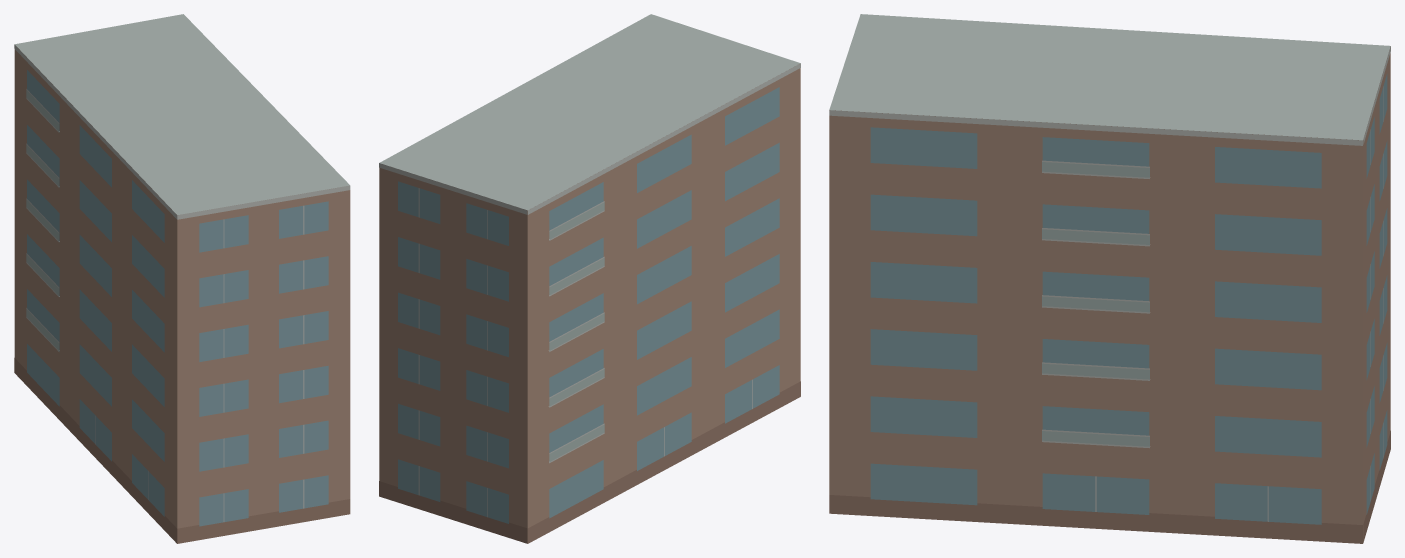
Rendered from survey-upis-32514775.glb.
3 views of the same model, side by side, from view 1: azimuth 30°, elevation 25°; view 2: azimuth 150°, elevation 25°; view 3: azimuth 270°, elevation 25° (orthographic). The views are drawn at different scales.
Parts seen in each view (by area): view 1: survey-upis-32514775.tmp; view 2: survey-upis-32514775.tmp; view 3: survey-upis-32514775.tmp.
Part boxes in pixels (box(x1,y1,x2,y2)): survey-upis-32514775.tmp: box(14, 14, 350, 543); survey-upis-32514775.tmp: box(379, 14, 800, 543); survey-upis-32514775.tmp: box(829, 14, 1390, 543).
Bounding box in the file's own units: 11.83 × 17.6 × 22.21.
